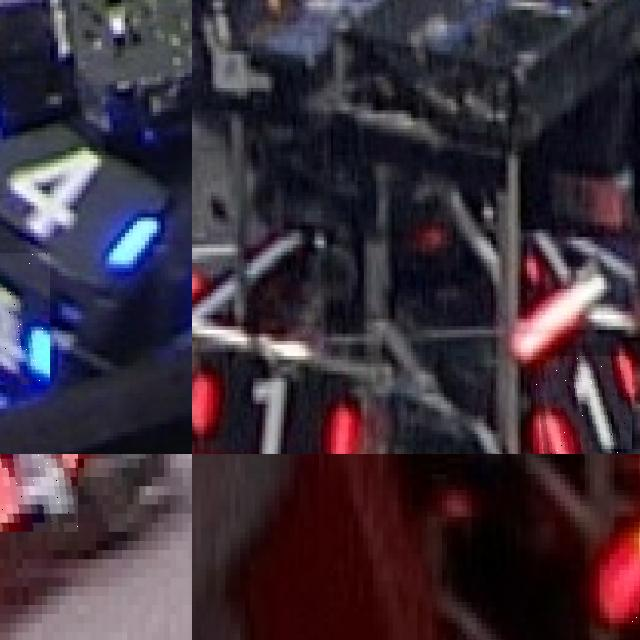B4: (0, 252, 50, 385)
R1: (192, 356, 363, 454), (533, 356, 631, 454), (192, 218, 240, 303)
R4: (0, 454, 78, 531)
